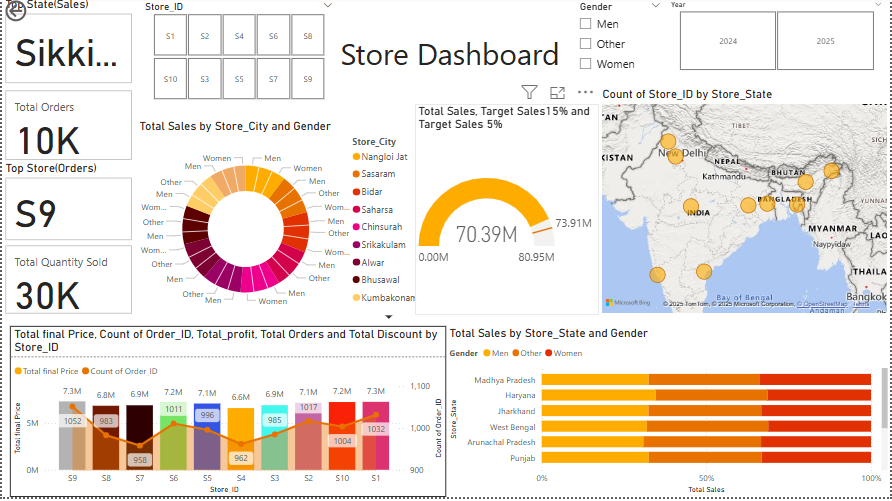

What the dashboard file says about the page in this screenshot:
{"tool":"powerbi","page":{"name":"Store Dashboard","canvas":[1280,720],"ordinal":4},"visuals":[{"type":"cardVisual","title":"Top State(Sales)","fields":{"Data":["Min(Customers.State)"]},"box":[0,0,193,129.6],"z":0},{"type":"cardVisual","fields":{"Data":["Orders.Total Orders"]},"box":[0,129.6,193,110.9],"z":1000},{"type":"cardVisual","fields":{"Data":["Orders.Total Quantity Sold"]},"box":[0,352.8,193,108],"z":2000},{"type":"textbox","box":[470.9,47.5,348.5,82.1],"z":3000},{"type":"map","fields":{"Category":["Stores.Store_State Hierarchy.Store_State"],"Size":["CountNonNull(Stores.Store_ID)"]},"box":[860.3,129.5,419.7,330.4],"z":4000},{"type":"hundredPercentStackedBarChart","fields":{"Y":["Orders.Total Sales"],"Category":["Stores.Store_State"],"Series":["Products.Gender"]},"box":[639.4,473.8,640.8,246.2],"z":5000},{"type":"slicer","fields":{"Values":["Stores.Store_ID"]},"box":[193,0,295.2,154.1],"z":6000},{"type":"slicer","fields":{"Values":["DateTable.Year"]},"box":[951.1,0,328.9,111.6],"z":7000},{"type":"slicer","fields":{"Values":["Products.Gender"]},"box":[819.4,0,141.1,128.2],"z":8000},{"type":"donutChart","fields":{"Category":["Stores.Store_City"],"Y":["Orders.Total Sales"],"Series":["Products.Gender"]},"box":[193,175.7,420.5,298.1],"z":9000},{"type":"gauge","fields":{"Y":["Orders.Total Sales"],"MaxValue":["Orders.Target Sales15%"],"TargetValue":["Orders.Target Sales 5%"]},"box":[594.7,154.1,265,303.8],"z":10000},{"type":"lineStackedColumnComboChart","fields":{"Category":["Orders.Store_ID"],"Y":["Orders.Total final Price"],"Y2":["CountNonNull(Orders.Order_ID)"]},"box":[11.5,473.8,627.8,246.2],"z":11000},{"type":"cardVisual","title":"Top Store(Orders)","fields":{"Data":["Min(Orders.Store_ID)"]},"box":[0,236.2,193,119.5],"z":12000},{"type":"actionButton","box":[0,0,100,40],"z":13000}]}

Visuals, with their boxes in screenshot pixels (x1, y1, x2, y2), scaled from the page's 1280x720 canvas onto the 892x501 screenshot:
"Top State(Sales)" cardVisual: crop(0, 0, 134, 90)
cardVisual - Orders.Total Orders: crop(0, 90, 134, 167)
cardVisual - Orders.Total Quantity Sold: crop(0, 245, 134, 321)
textbox: crop(328, 33, 571, 90)
map - Stores.Store_State Hierarchy.Store_State x CountNonNull(Stores.Store_ID): crop(600, 90, 891, 320)
hundredPercentStackedBarChart - Orders.Total Sales x Stores.Store_State: crop(446, 330, 891, 500)
slicer - Stores.Store_ID: crop(134, 0, 340, 107)
slicer - DateTable.Year: crop(663, 0, 891, 78)
slicer - Products.Gender: crop(571, 0, 669, 89)
donutChart - Stores.Store_City x Orders.Total Sales: crop(134, 122, 428, 330)
gauge - Orders.Total Sales x Orders.Target Sales15%: crop(414, 107, 599, 319)
lineStackedColumnComboChart - Orders.Store_ID x Orders.Total final Price: crop(8, 330, 446, 500)
"Top Store(Orders)" cardVisual: crop(0, 164, 134, 248)
actionButton: crop(0, 0, 70, 28)
